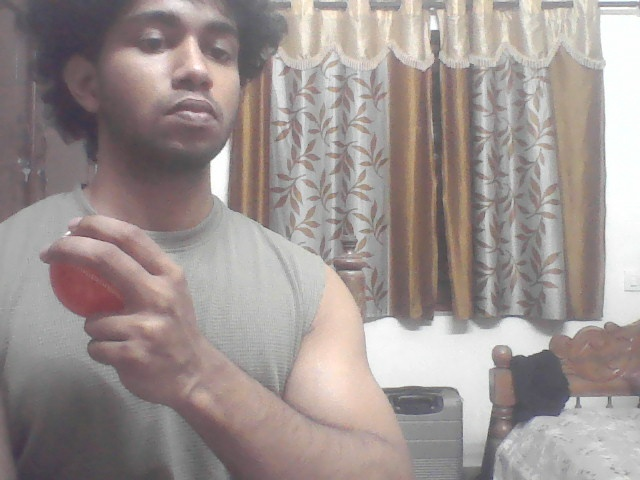cricket_ball: (45, 227, 132, 325)
